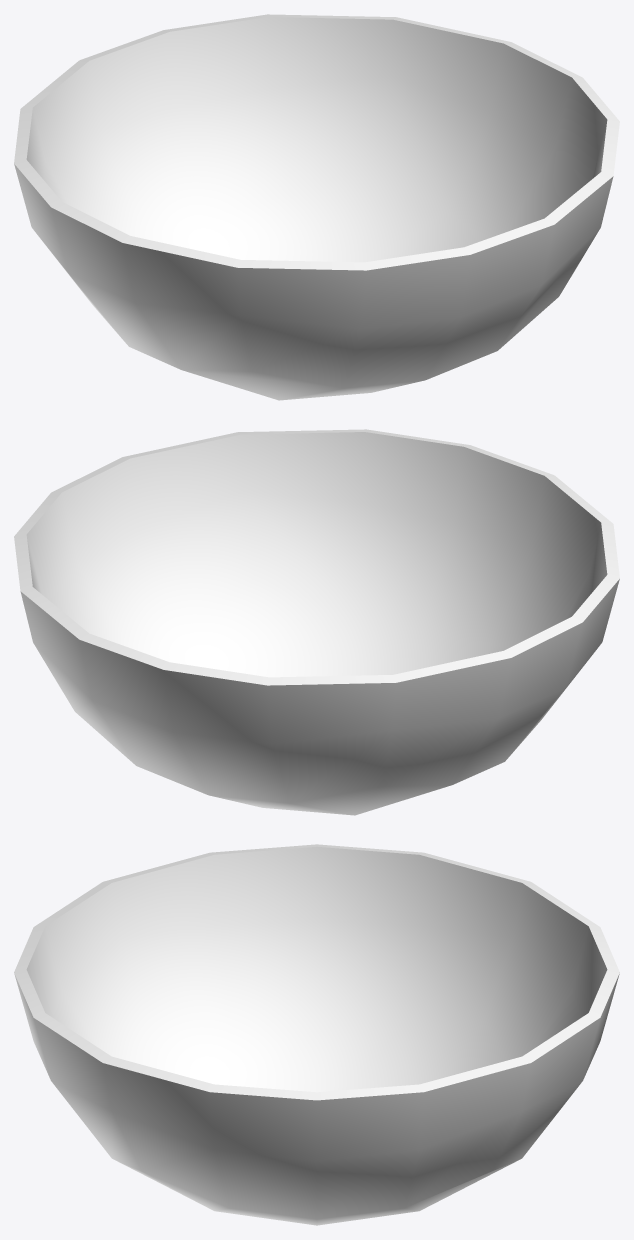
File: LP_bowl.obj
3 renders of one model, top to bottom at view 1: azimuth 30°, elevation 25°; view 2: azimuth 150°, elevation 25°; view 3: azimuth 270°, elevation 25°, orthographic.
Parts seen in each view (by area): view 1: LP_bowl.001; view 2: LP_bowl.001; view 3: LP_bowl.001.
Boxes of the visible parts, x1,y1,x2,y2 form: LP_bowl.001: (14, 14, 619, 400); LP_bowl.001: (14, 429, 619, 815); LP_bowl.001: (14, 844, 619, 1225).
Bounding box in the file's own units: 0.19 × 0.0775 × 0.19.
